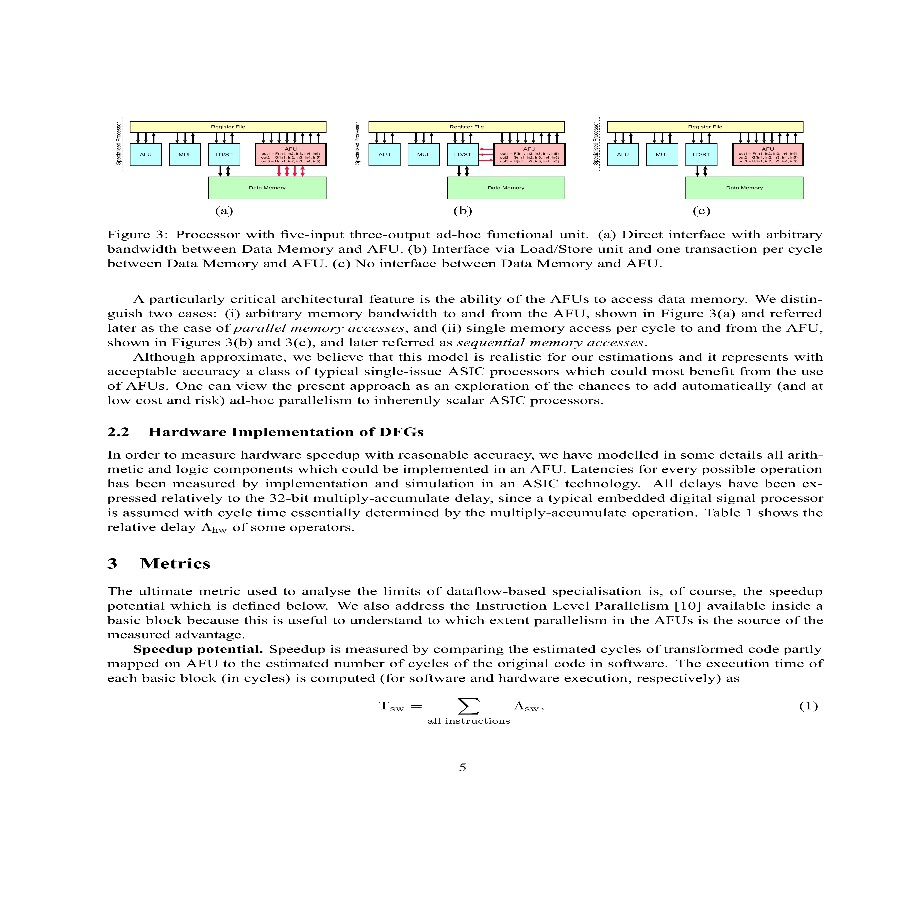eq: (375, 693, 543, 725)
